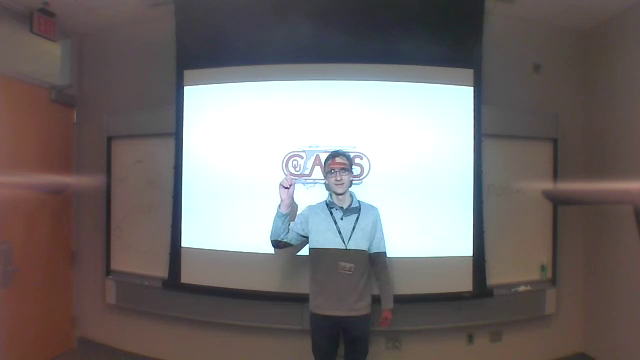up: (277, 167, 297, 194)
